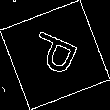P_SE: (24, 28, 86, 82)
